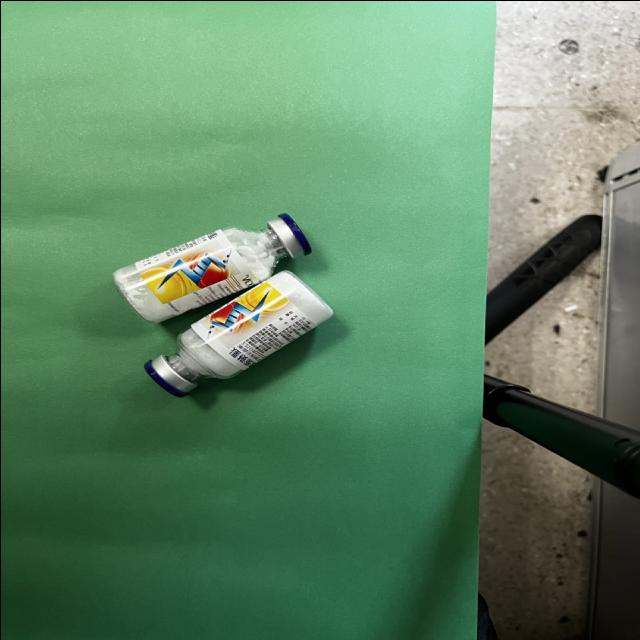Vials: (144, 270, 332, 396), (113, 212, 310, 321)
